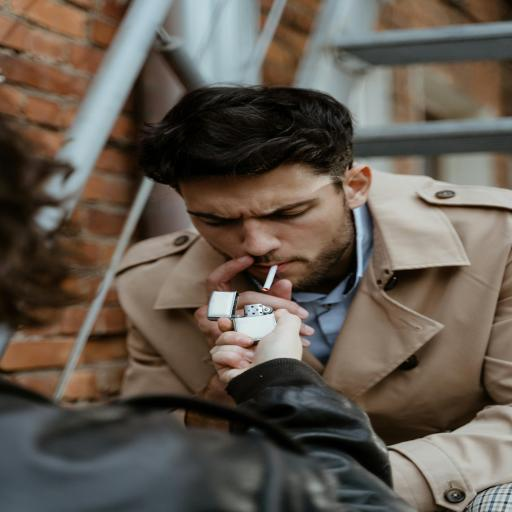terdeteksi merokok: (201, 200, 326, 322)
